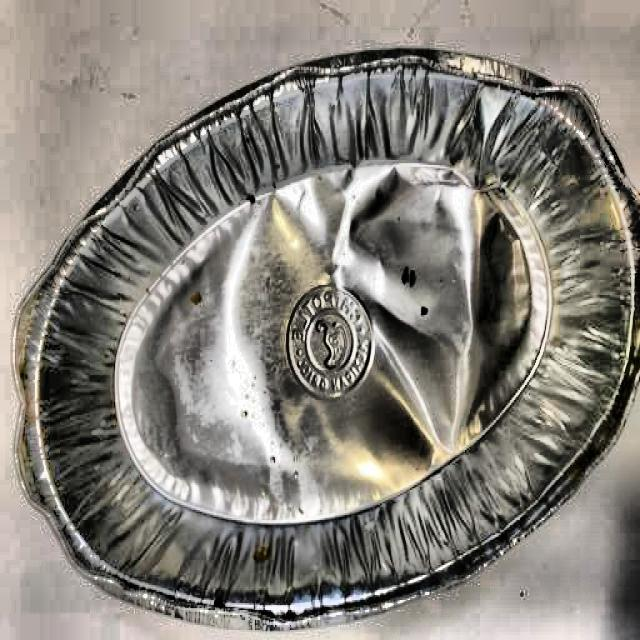metal: (9, 44, 640, 638)
